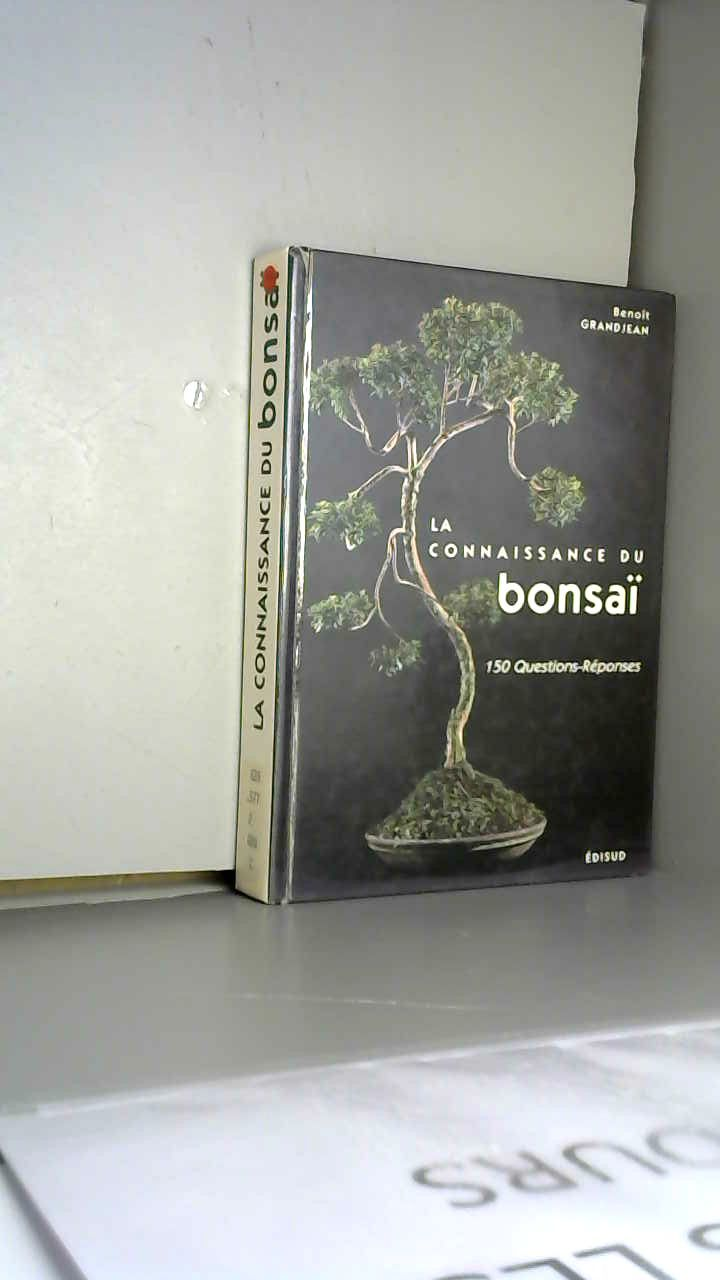book: (210, 220, 720, 931)
